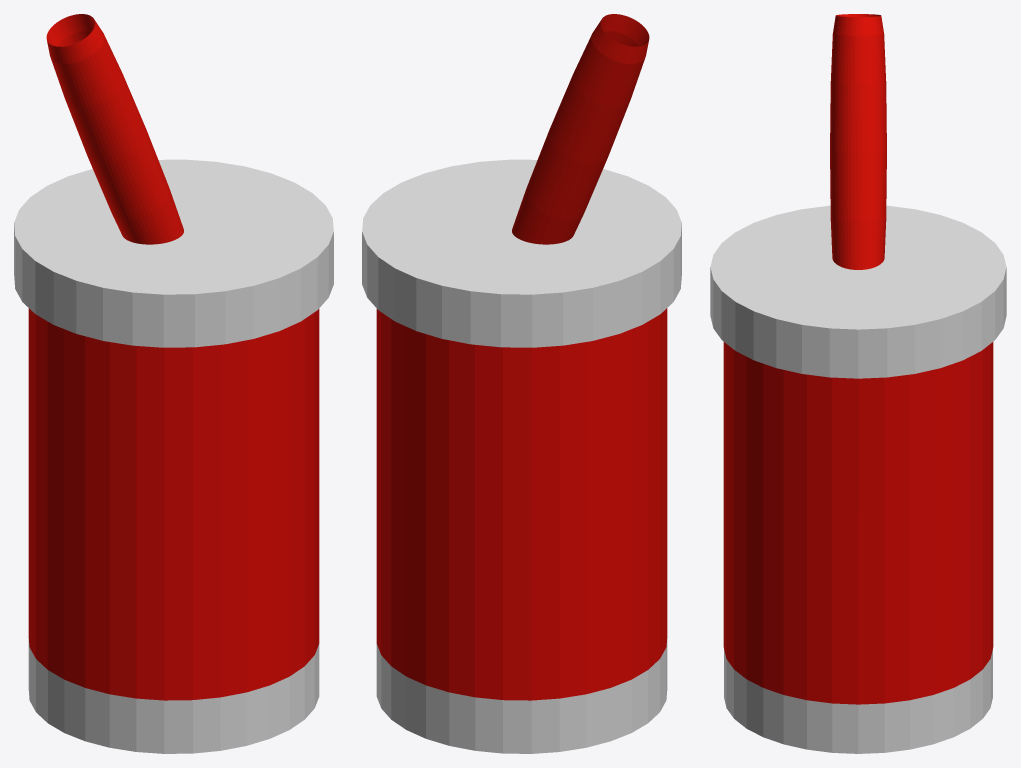
File: slushie.fbx
3 renders of one model, left to right at view 1: azimuth 30°, elevation 25°; view 2: azimuth 150°, elevation 25°; view 3: azimuth 270°, elevation 25°, orthographic. The views are drawn at different scales.
Parts seen in each view (by area): view 1: Cylinder.001, Cylinder.002, Cylinder, Torus; view 2: Cylinder.001, Cylinder.002, Cylinder, Torus; view 3: Cylinder.001, Cylinder.002, Torus, Cylinder.
Part boxes in pixels (bbox=[...]): Cylinder.001: bbox=[28, 308, 319, 700]; Cylinder.002: bbox=[14, 159, 333, 347]; Cylinder: bbox=[28, 639, 319, 753]; Torus: bbox=[46, 14, 183, 244]; Cylinder.001: bbox=[376, 308, 667, 700]; Cylinder.002: bbox=[362, 159, 681, 347]; Cylinder: bbox=[376, 639, 667, 753]; Torus: bbox=[512, 14, 649, 244]; Cylinder.001: bbox=[723, 342, 993, 704]; Cylinder.002: bbox=[710, 205, 1006, 378]; Torus: bbox=[830, 14, 886, 269]; Cylinder: bbox=[724, 649, 992, 753].
Bounding box in the file's own units: 164 × 392 × 164.
